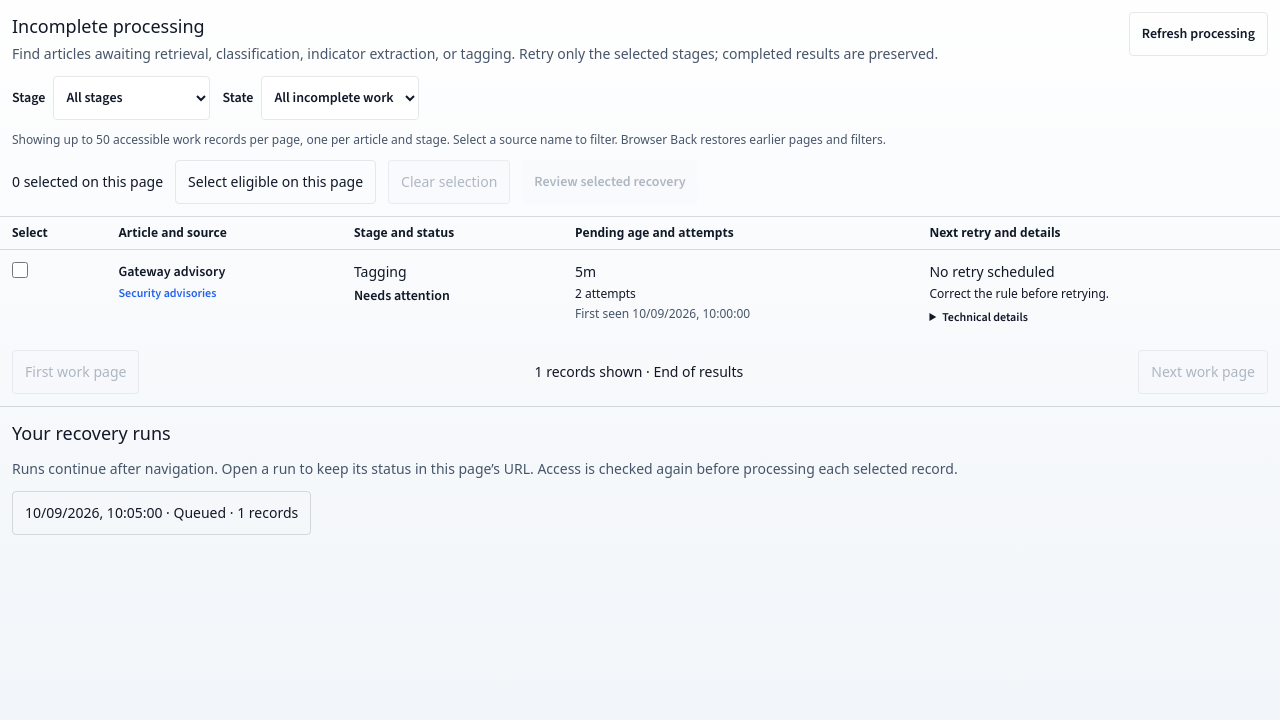
Test case: processing work with actual router, session cache and mutations › keeps selected work and shows actionable feedback when request preparation fails
The width and height of the screenshot is (1280, 720).
Click the checkbox named "Select Tagging for Gateway advisory": (20, 270) [12,262,28,278]
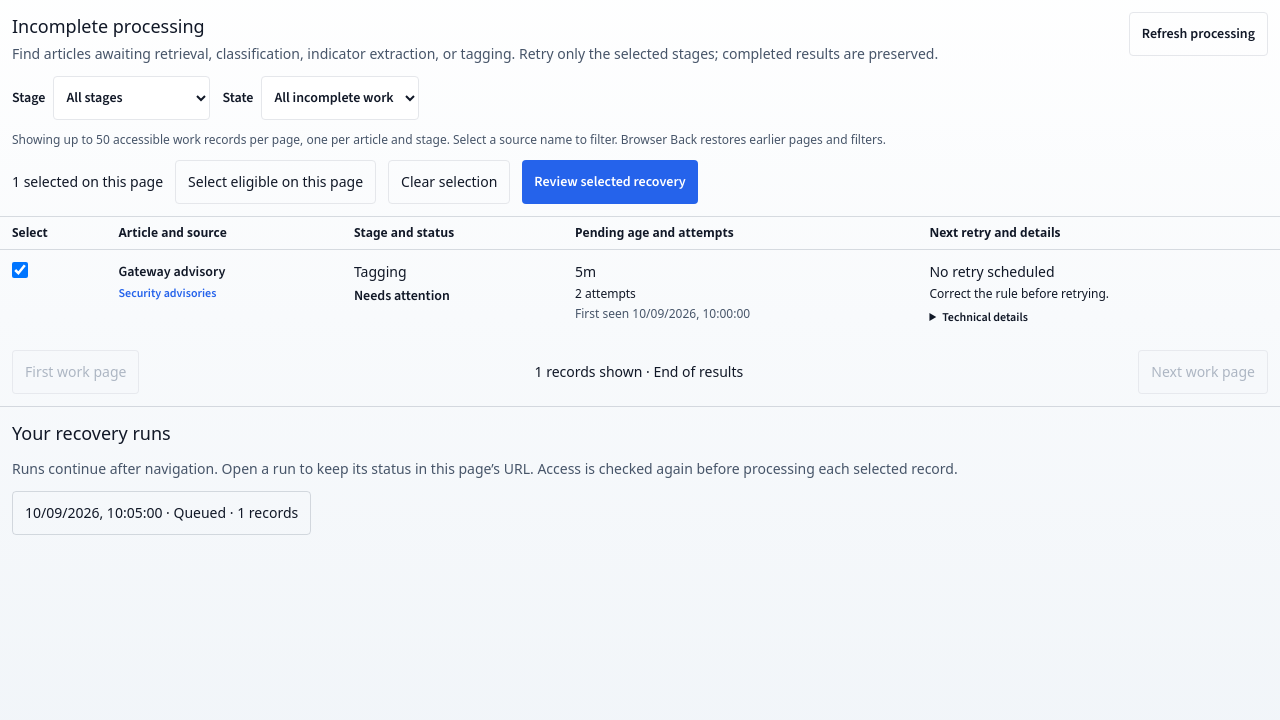
Click the button "Review selected recovery": (610, 182) [522,160,698,204]
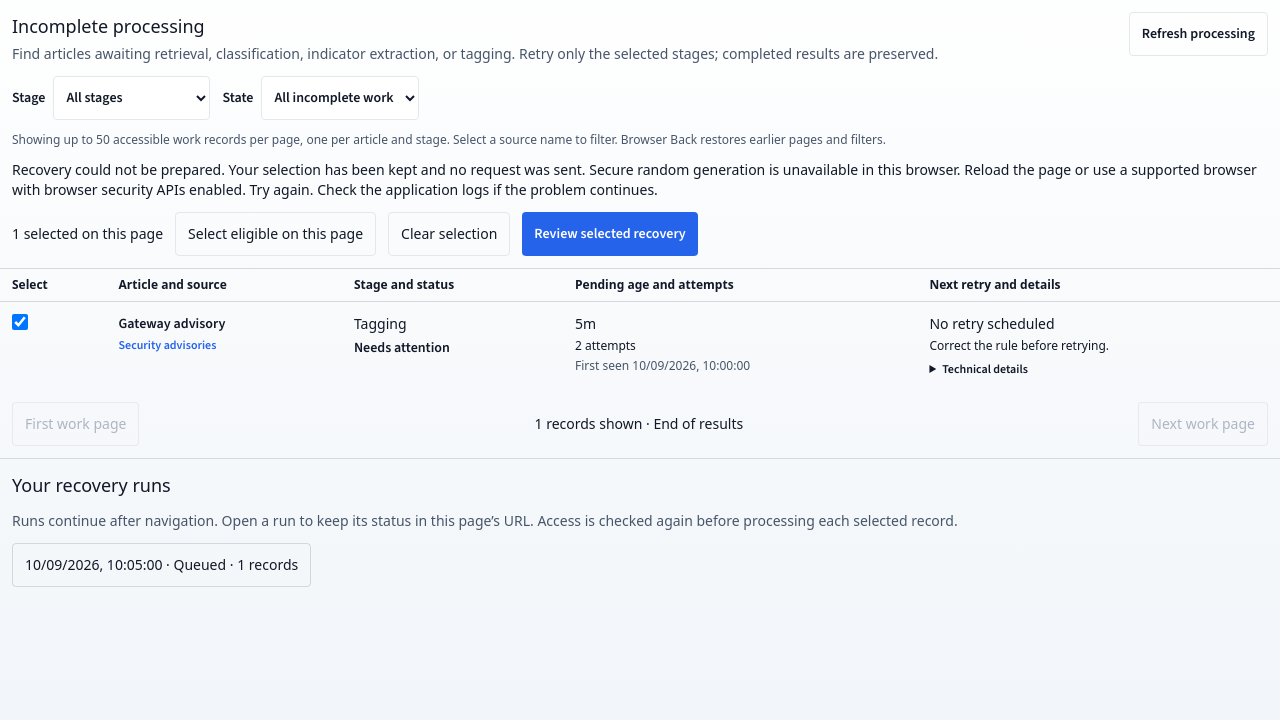
Expected: the text "1 selected on this page" is shown, [12,224,163,244]
Expected: the text "Secure random generation is unavailable" is shown, [12,160,1257,199]
Expected: the text "Your selection has been kept and no request was sent" is shown, [12,160,1257,199]
Click the button "Review selected recovery": (610, 234) [522,212,698,256]
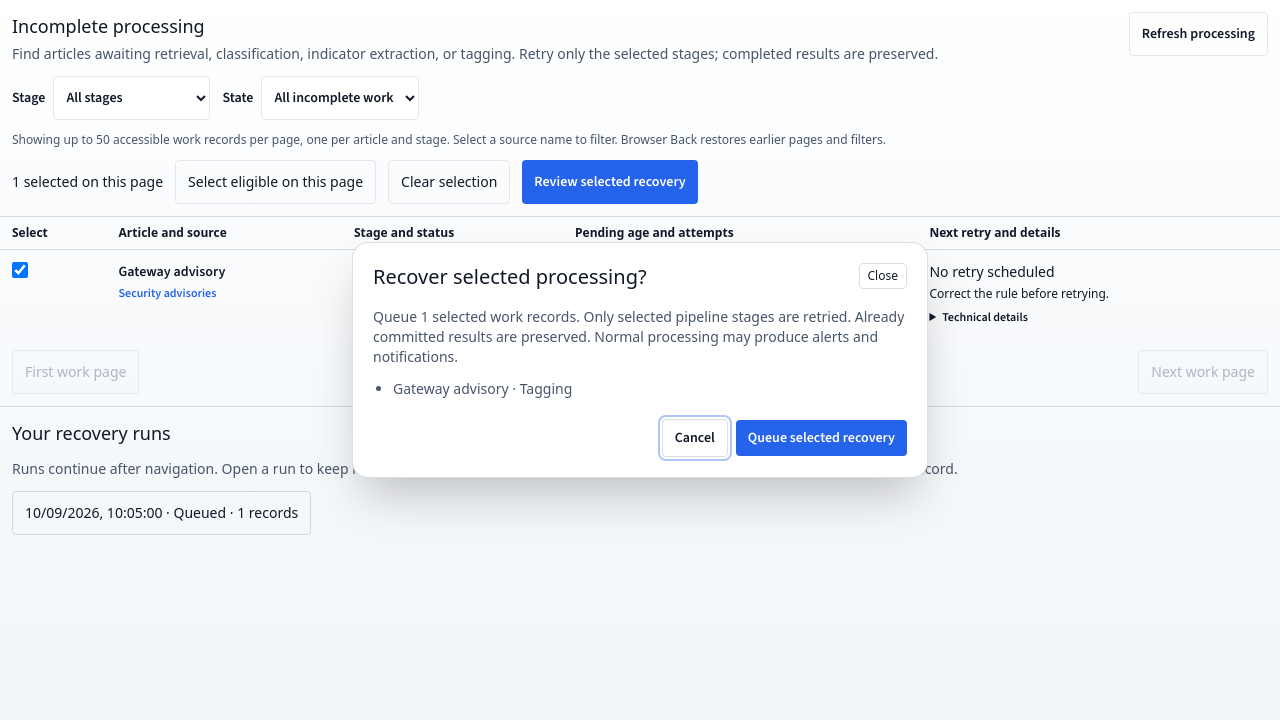
Expected: the dialog is shown, [352,242,928,478]
Expected: the text "Secure random generation is unavailable" is gone
